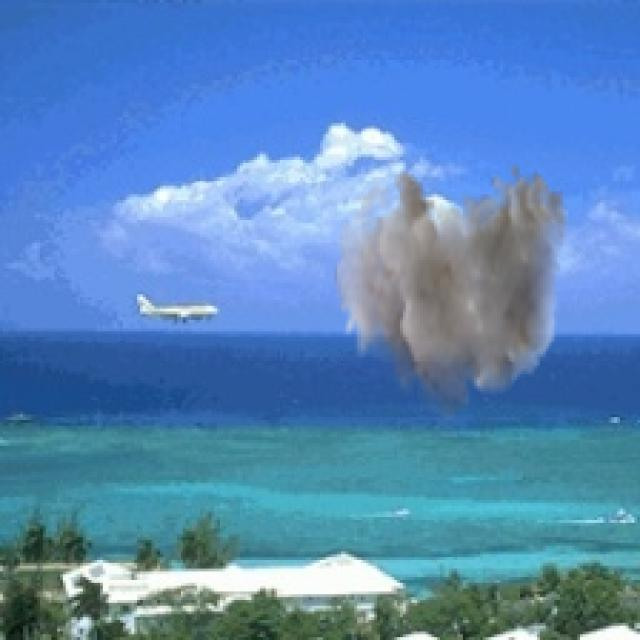Smoke: (334, 163, 569, 426)
